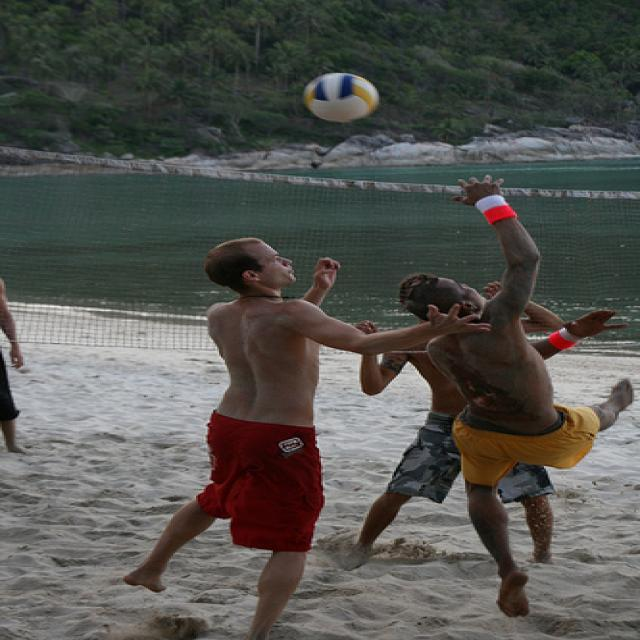volleyball: (303, 72, 380, 122)
